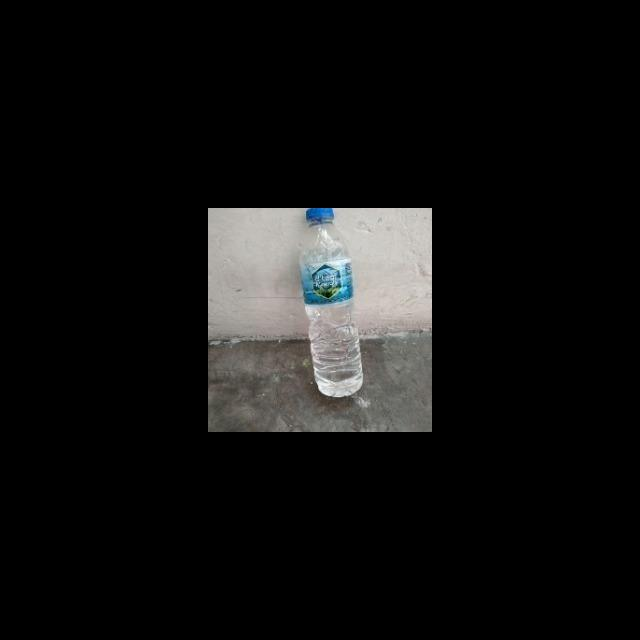plastic: (294, 208, 373, 404)
